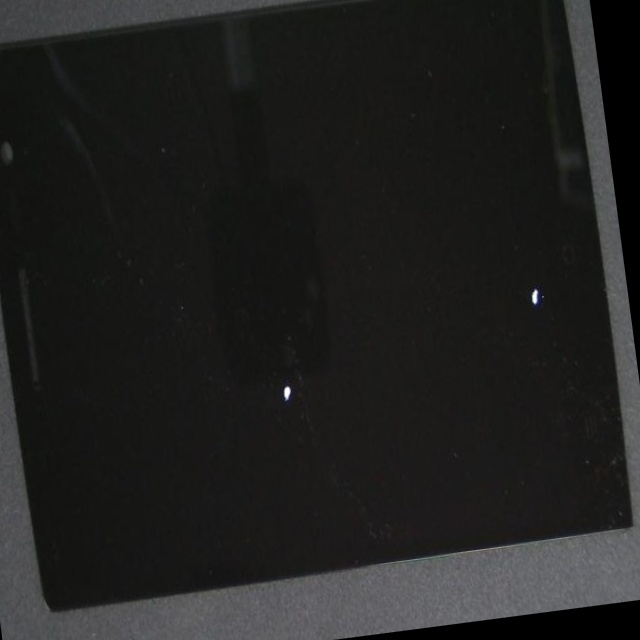stain: (222, 111, 640, 593), (112, 97, 465, 605)
